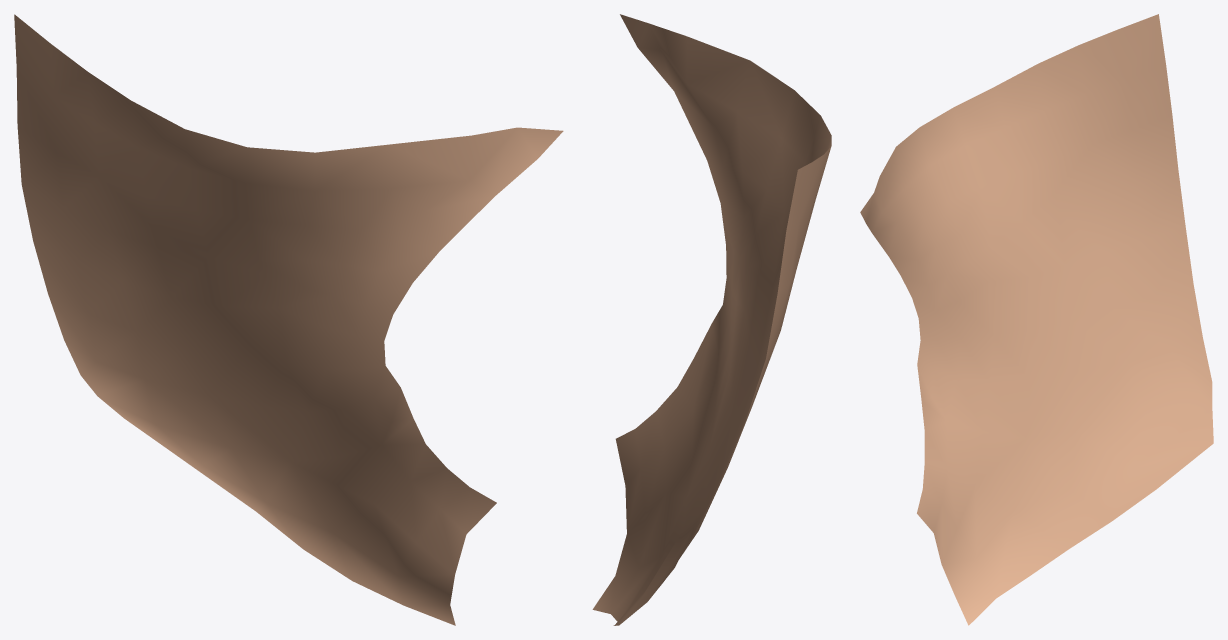
The model's file is buccal-region-r.glb.
The picture shows the model from 3 angles, left to right: view 1: azimuth 30°, elevation 25°; view 2: azimuth 150°, elevation 25°; view 3: azimuth 270°, elevation 25°; orthographic projection. The views are drawn at different scales.
Parts seen in each view (by area): view 1: Buccal region.r; view 2: Buccal region.r; view 3: Buccal region.r.
Part boxes in pixels (x1,y1,x2,y2): Buccal region.r: [14, 14, 563, 625]; Buccal region.r: [592, 14, 831, 625]; Buccal region.r: [860, 14, 1213, 625].
Bounding box in the file's own units: 0.046 × 0.073 × 0.0482.
